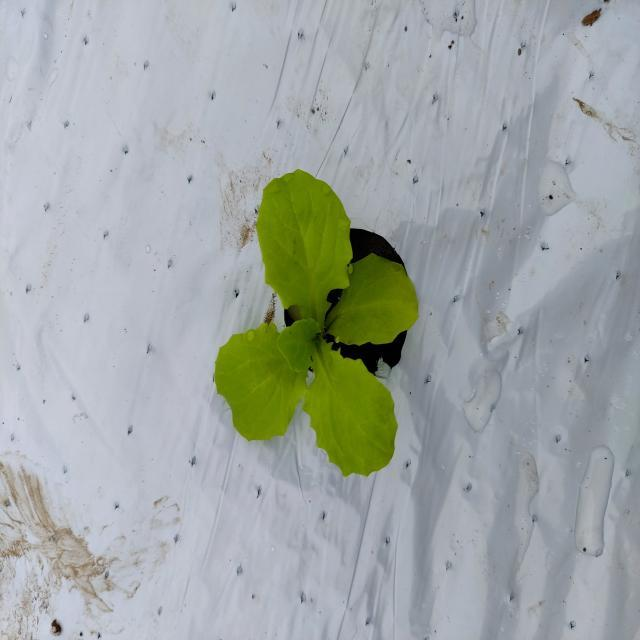Lettuce-Not-Ready-to-Harvest: (216, 170, 418, 474)
